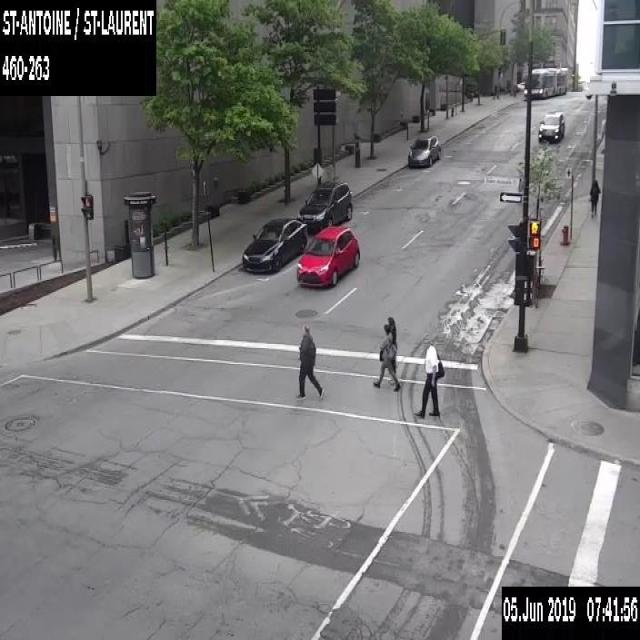bus: (523, 65, 568, 99)
pedestrian: (414, 334, 444, 418), (297, 321, 325, 399), (372, 323, 400, 392), (384, 315, 396, 384), (589, 178, 600, 216)
vehicle: (296, 225, 360, 286), (240, 216, 307, 273), (296, 180, 352, 231), (407, 134, 441, 166), (538, 110, 564, 142)
